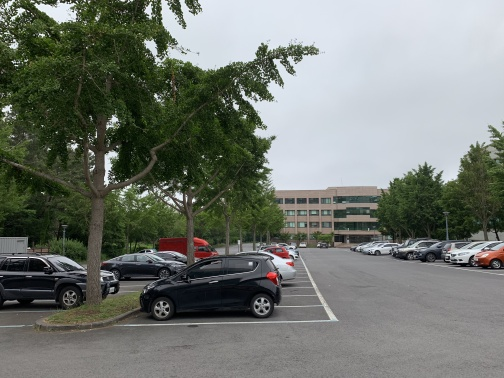Joint Experimental Labs: (266, 183, 393, 247)
